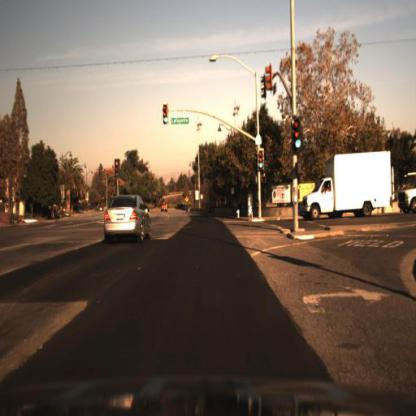car: (302, 150, 398, 224), (103, 193, 153, 248)
trafficLight-Green: (293, 116, 303, 155), (257, 148, 267, 172), (162, 100, 170, 126)
trafficLight-RedLeft: (114, 158, 122, 179)
